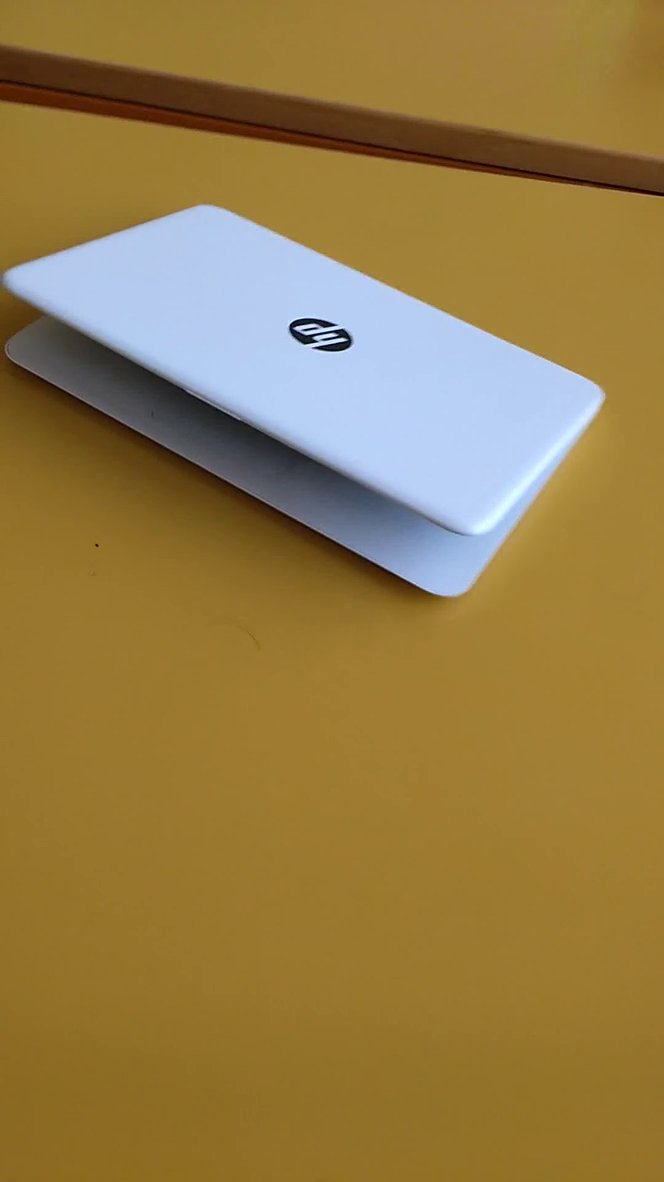laptop: (1, 174, 614, 623)
